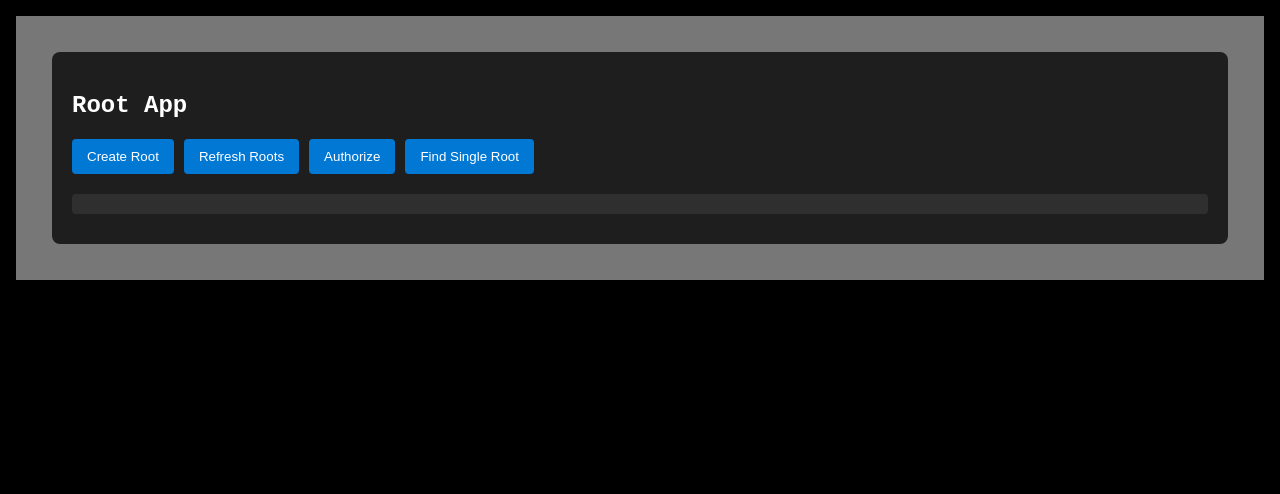
it: Root component › open and close create modal
The width and height of the screenshot is (1280, 494).
Simulate opening the create modal
Step 1. Click the button "Create Root" → (123, 156), box [72,139,174,174]
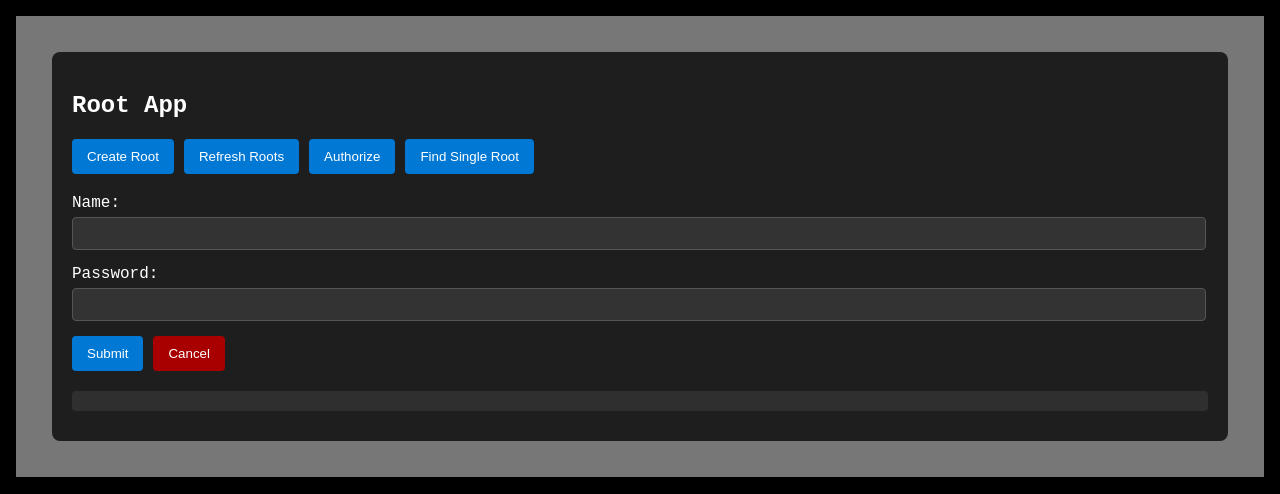
Expected: the button "Submit" is shown, [72,336,144,371]
Simulate closing the create modal
Step 2. Click the button "Cancel" → (189, 353), box [154,336,225,371]
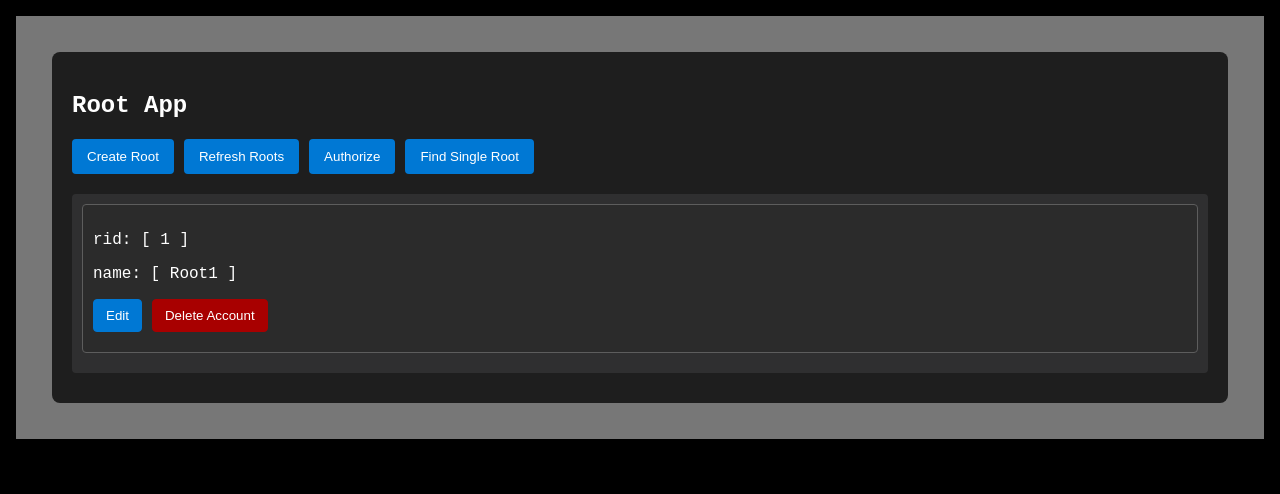
Expected: the button "Submit" is gone
